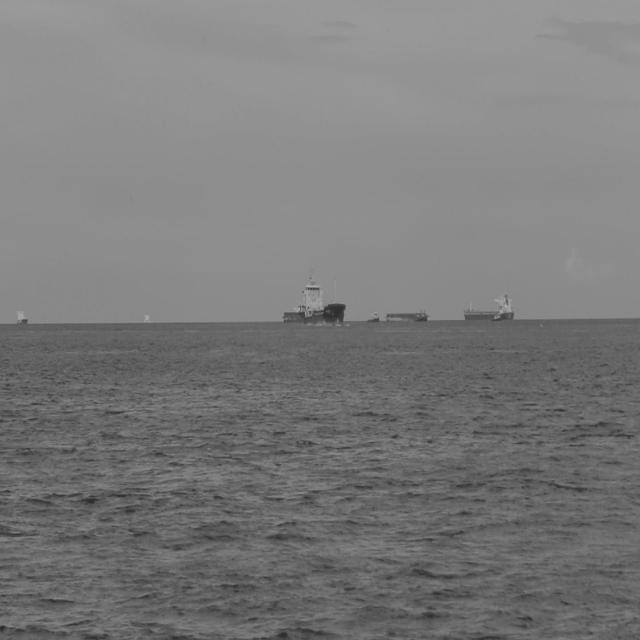ship: (280, 268, 346, 326), (463, 291, 518, 325), (384, 308, 429, 328), (14, 309, 28, 330)
